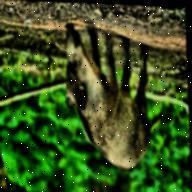boar: (60, 25, 154, 173)
